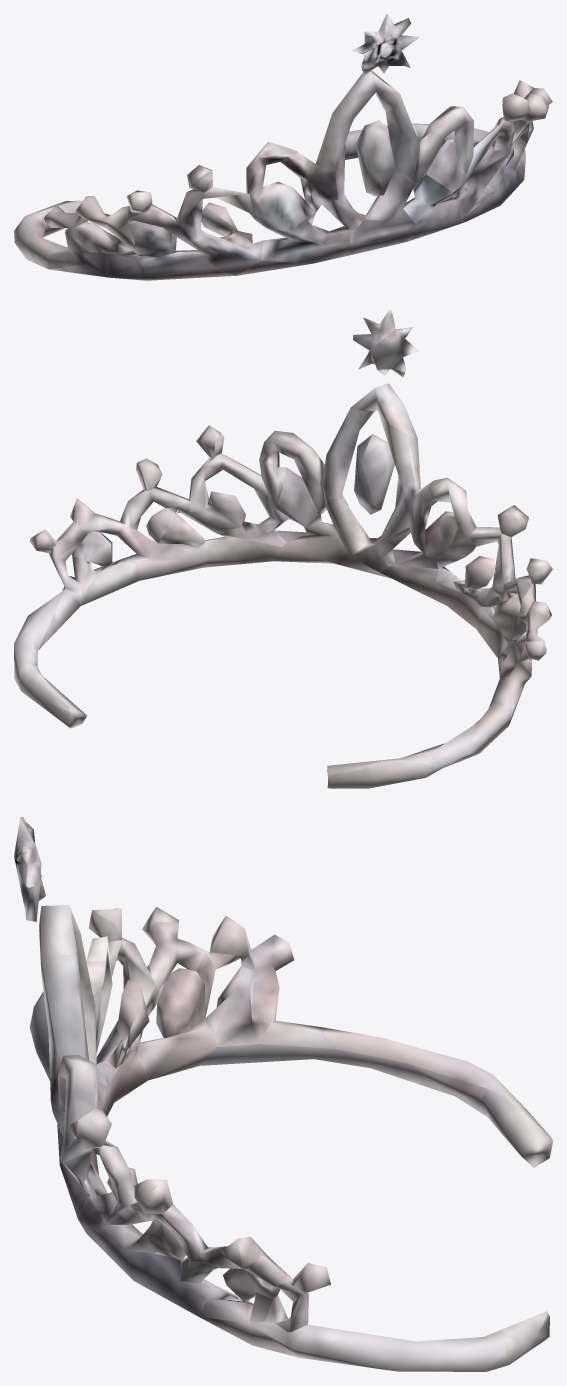
3 views of the same model, one above another, from view 1: azimuth 30°, elevation 25°; view 2: azimuth 150°, elevation 25°; view 3: azimuth 270°, elevation 25° (orthographic). The views are drawn at different scales.
Visible parts, largest first — view 1: Silver-Tiara-07; view 2: Silver-Tiara-07; view 3: Silver-Tiara-07.
Boxes of the visible parts, x1,y1,x2,y2 form: Silver-Tiara-07: (14, 14, 552, 280); Silver-Tiara-07: (14, 309, 552, 788); Silver-Tiara-07: (14, 817, 552, 1371).
Bounding box in the file's own units: 0.3214 × 0.1919 × 0.2142.
Materials: 1 (1 with a texture image).
